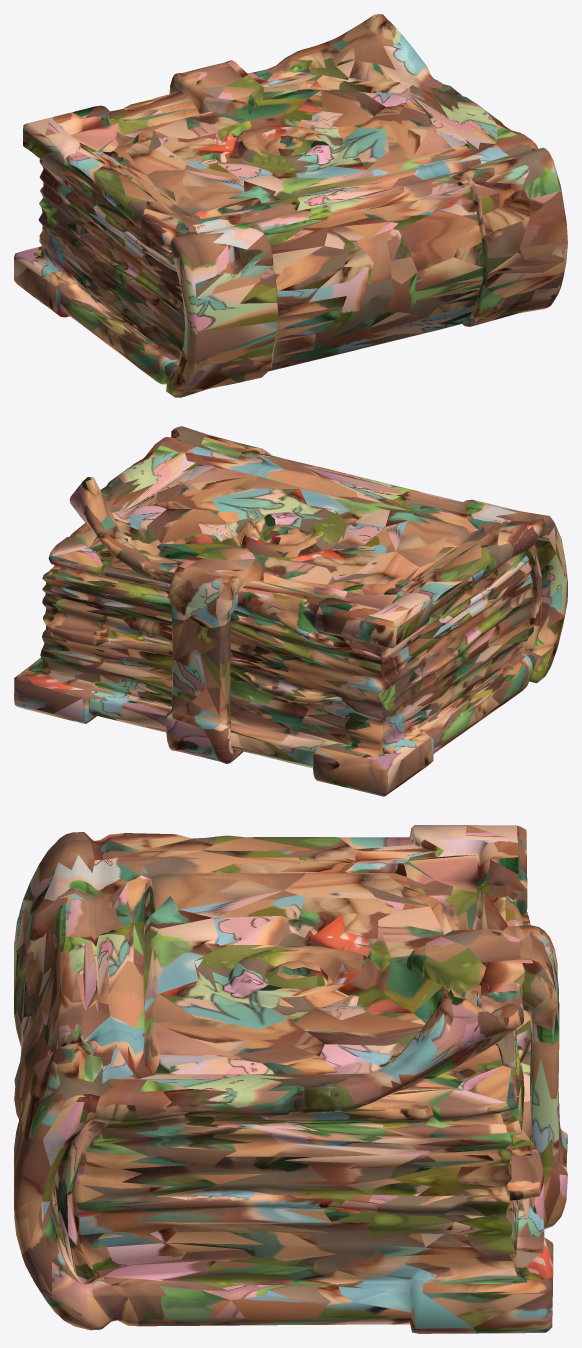
The model's file is Sigilbound_Tome.fbx.
3 views of the same model, one above another, from view 1: azimuth 30°, elevation 25°; view 2: azimuth 150°, elevation 25°; view 3: azimuth 270°, elevation 25° (orthographic). The views are drawn at different scales.
Parts seen in each view (by area): view 1: Mesh_0; view 2: Mesh_0; view 3: Mesh_0.
Boxes of the visible parts, bbox=[...] form: Mesh_0: bbox=[14, 14, 567, 397]; Mesh_0: bbox=[14, 426, 567, 796]; Mesh_0: bbox=[14, 825, 567, 1333].
Size of the model in its own units: 179 by 100 by 155.
